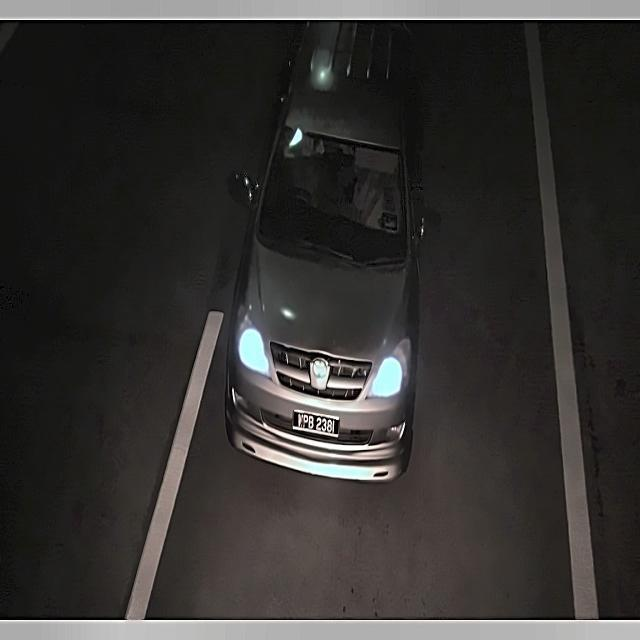car: (286, 407, 343, 442)
